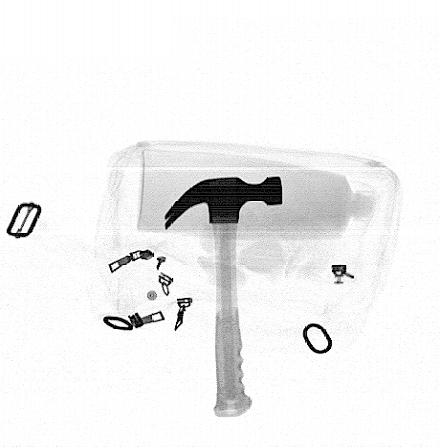Hammer: (163, 176, 283, 417)
